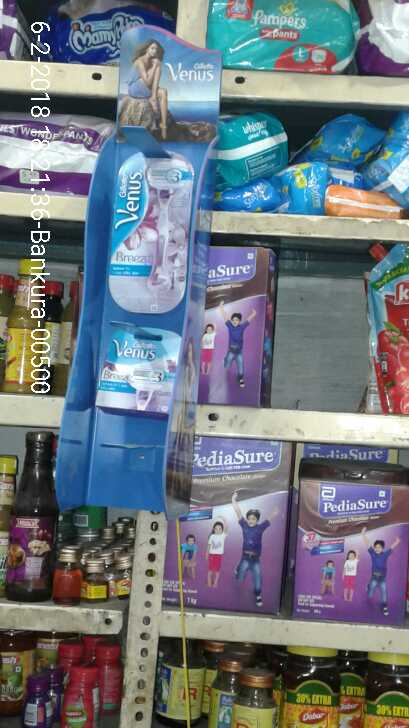beauty: (109, 152, 206, 313), (94, 321, 173, 422)
pharmacy: (202, 1, 366, 66)
